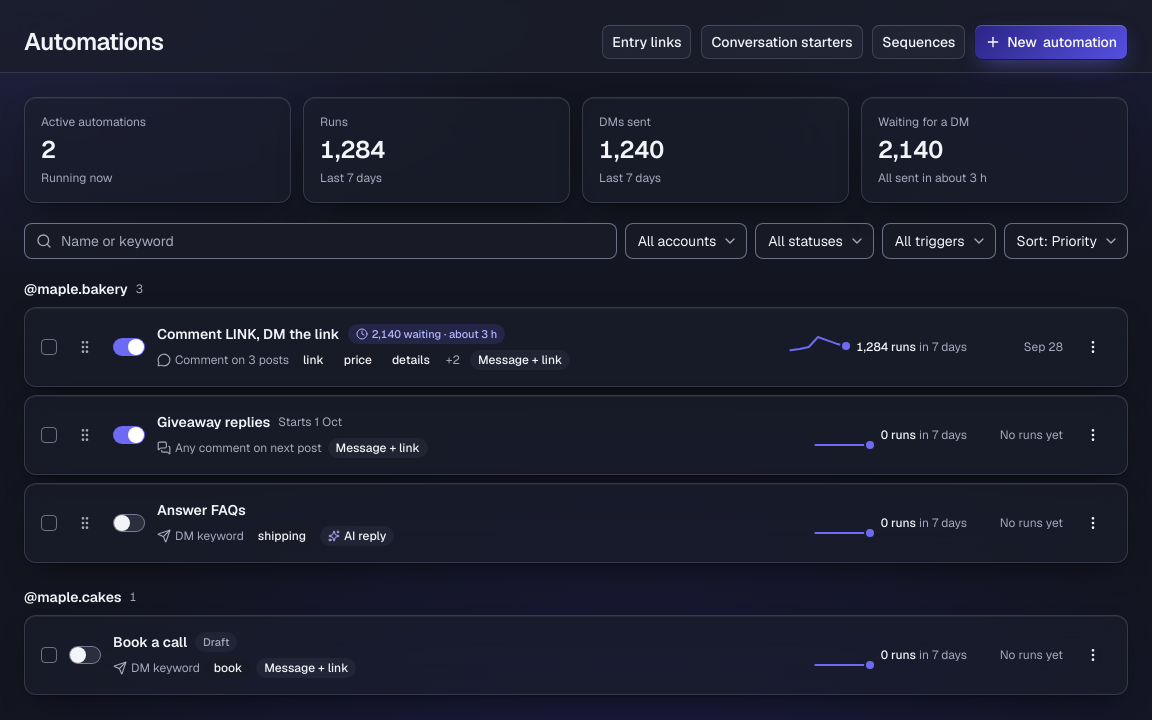
Test: AutomationsPage (UX-SCR-02) › deletes after confirming
Expected: the link "Book a call" is shown, left=113, top=632, right=187, bottom=652
Step 1. Click the button named "More actions for Book a call" → click(1093, 655), box left=1075, top=637, right=1111, bottom=673
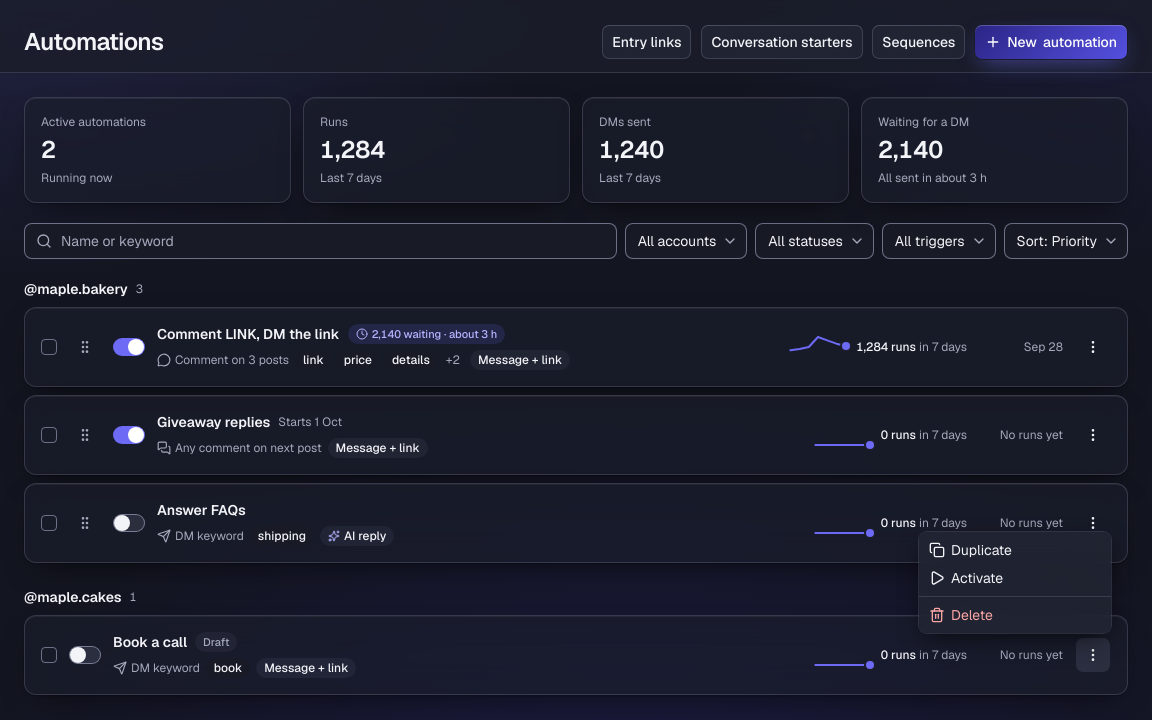
Step 2. Click the menu item "Delete" → click(961, 615), box left=929, top=606, right=993, bottom=624
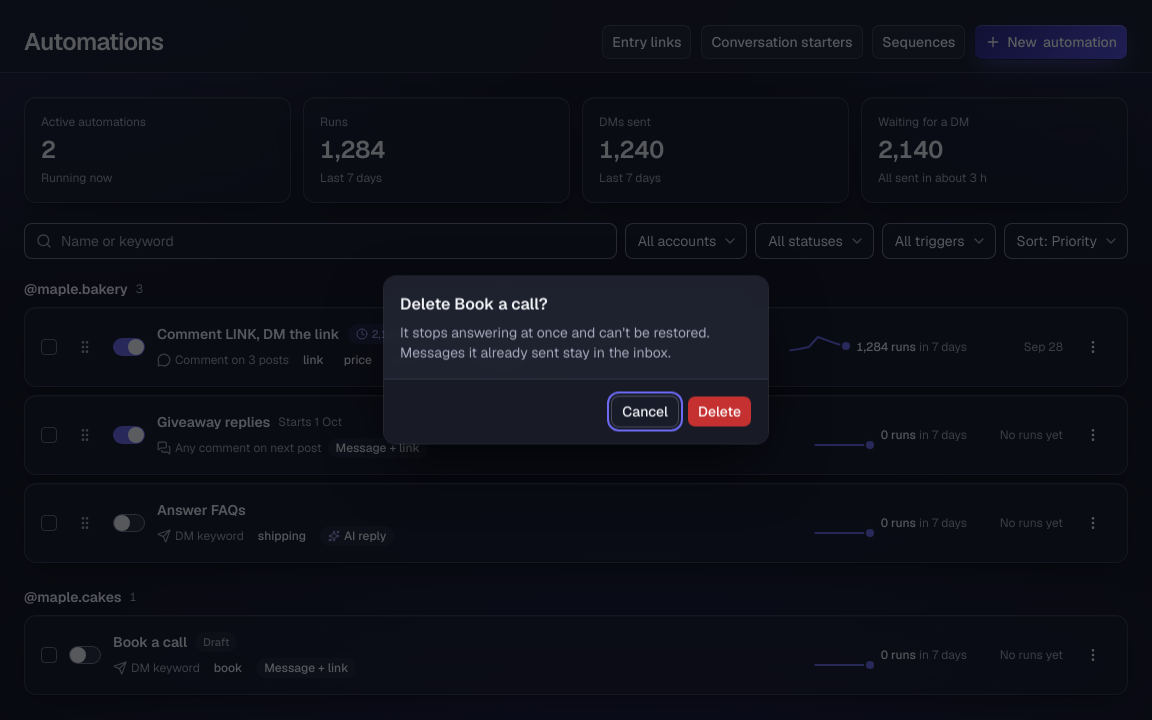
# Cancel: focus goes back to the row's ⋯ (the menu item that opened it is gone).
Step 3. Click the button "Cancel" → click(645, 412), box left=611, top=396, right=679, bottom=428
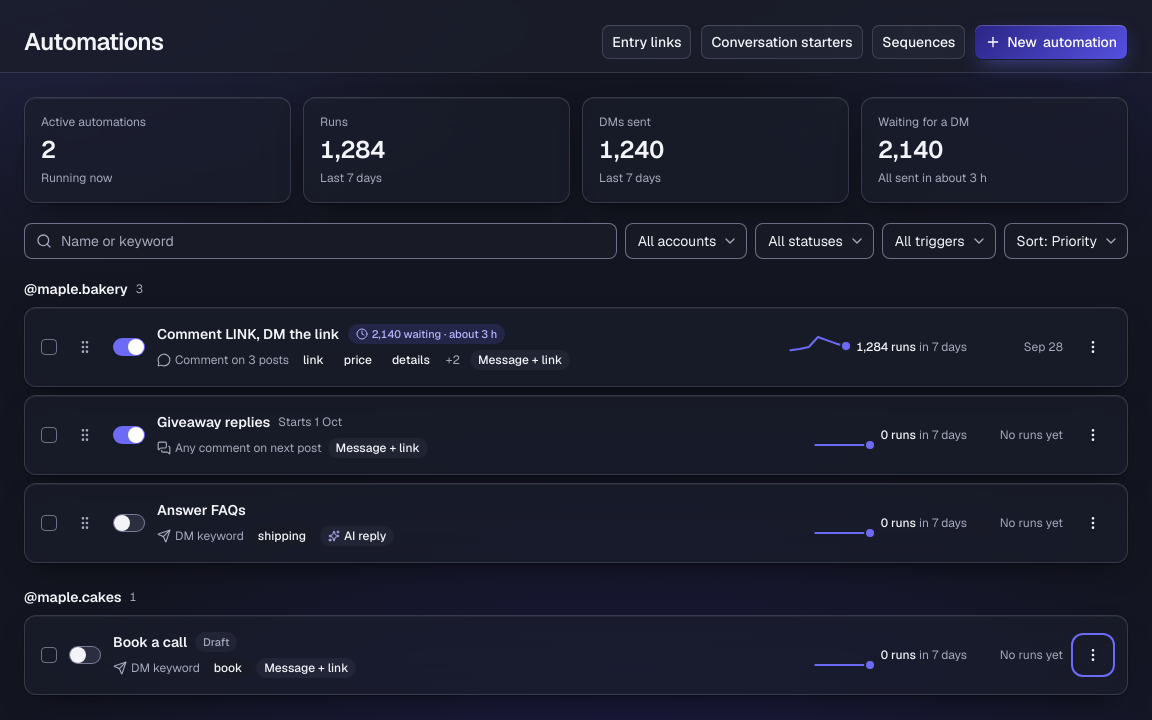
Expected: the dialog is gone
Step 4. Click the button named "More actions for Book a call" → click(1093, 655), box left=1075, top=637, right=1111, bottom=673
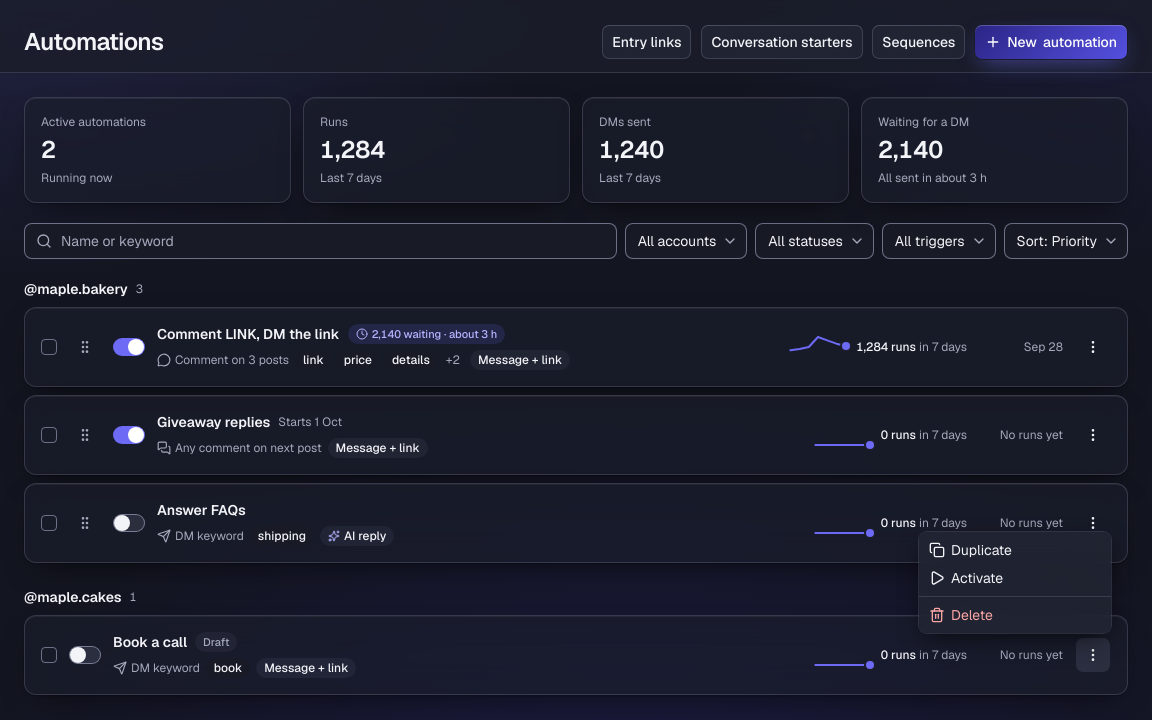
Step 5. Click the menu item "Delete" → click(961, 615), box left=929, top=606, right=993, bottom=624
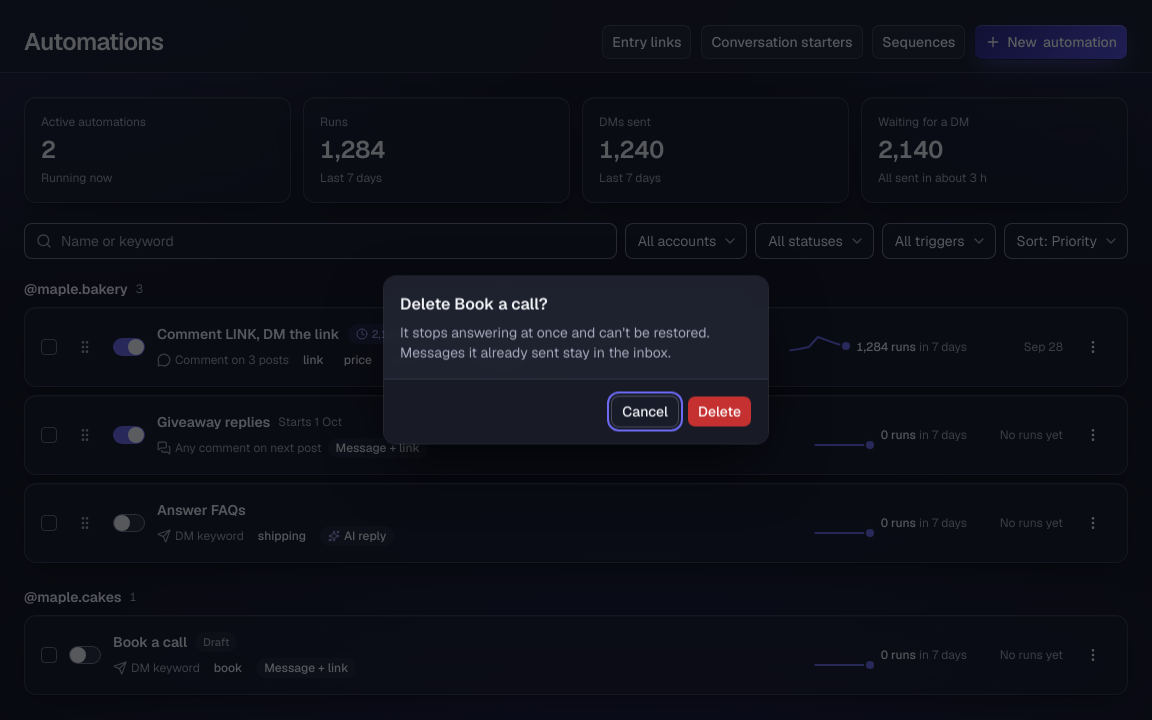
Step 6. Click the button "Delete" → click(719, 412), box left=687, top=396, right=752, bottom=428
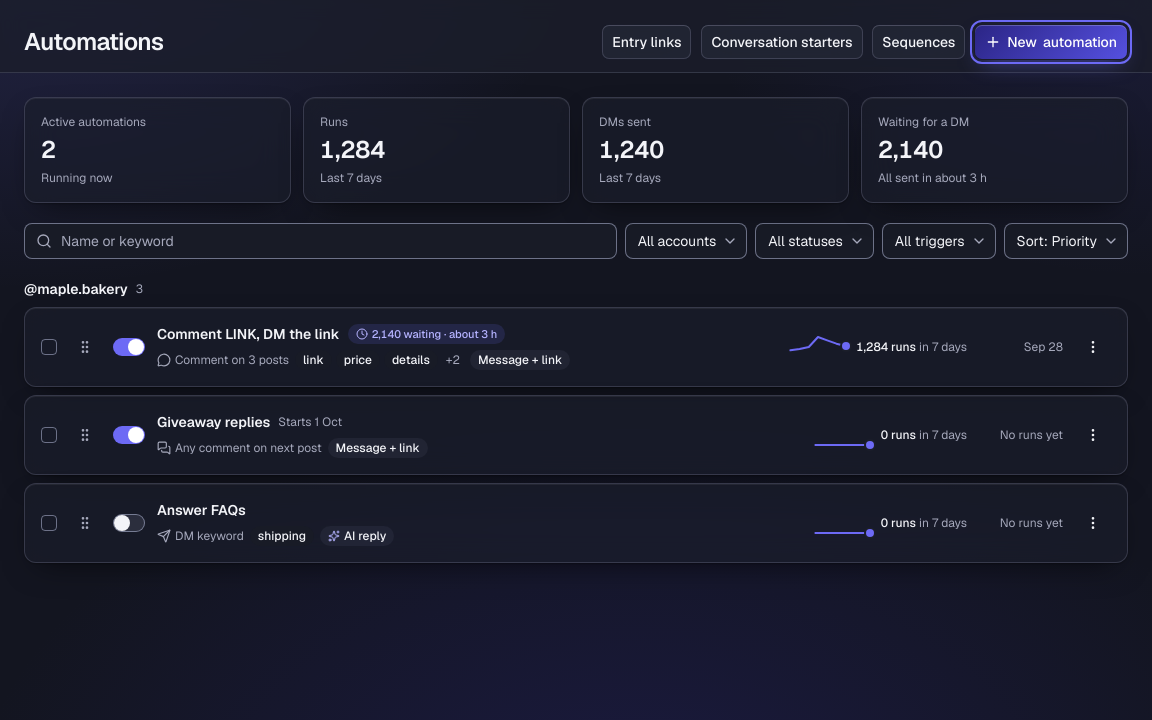
Expected: the link "Book a call" is gone
